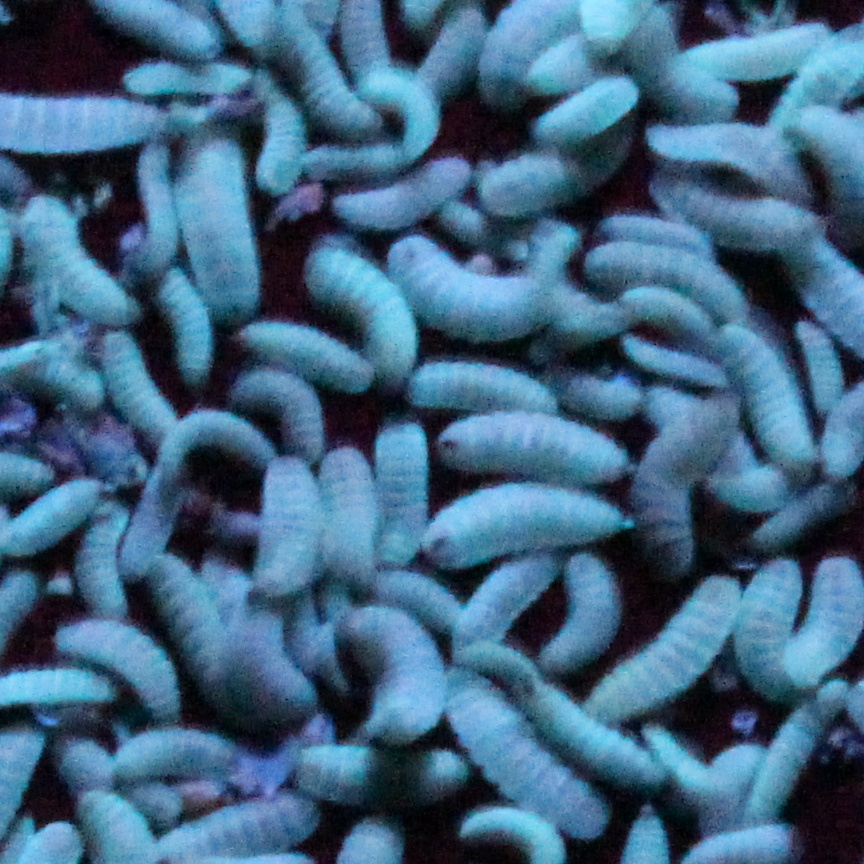larve: (455, 672, 606, 845), (631, 404, 747, 560), (611, 575, 731, 709), (404, 242, 540, 350), (426, 486, 624, 560), (208, 562, 308, 706), (190, 121, 260, 319), (517, 670, 644, 776), (26, 196, 126, 329), (663, 175, 811, 263), (275, 22, 383, 139), (311, 247, 409, 375), (727, 322, 811, 467), (342, 613, 440, 737), (580, 239, 744, 313), (444, 417, 622, 483), (452, 557, 568, 654), (288, 745, 465, 806), (67, 621, 176, 713), (159, 558, 227, 702), (647, 129, 806, 188), (311, 439, 376, 583), (253, 454, 319, 590), (680, 29, 831, 88), (242, 326, 375, 390), (337, 165, 476, 226), (545, 554, 619, 668), (101, 345, 181, 442), (152, 265, 221, 375), (373, 429, 427, 567), (745, 563, 801, 691), (422, 358, 557, 409), (539, 78, 634, 147), (240, 368, 326, 442), (0, 485, 91, 552), (617, 283, 717, 342), (654, 737, 732, 812), (480, 158, 573, 217), (79, 508, 126, 617), (785, 319, 840, 410), (754, 712, 801, 814), (622, 332, 716, 380), (765, 488, 840, 547), (111, 736, 245, 767), (380, 76, 435, 150), (606, 211, 711, 249), (185, 409, 268, 454), (116, 63, 250, 90), (529, 37, 586, 91), (268, 86, 298, 188)
